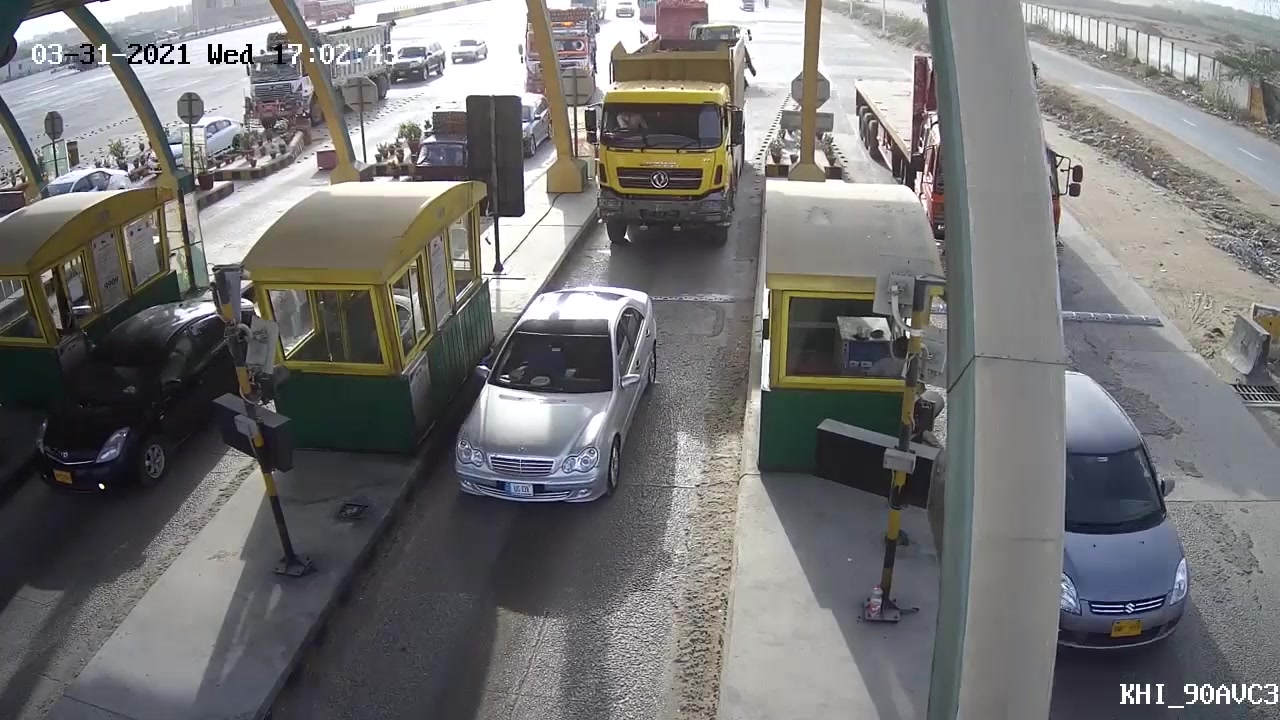F1: (446, 282, 664, 526)
F5: (587, 26, 761, 259)
